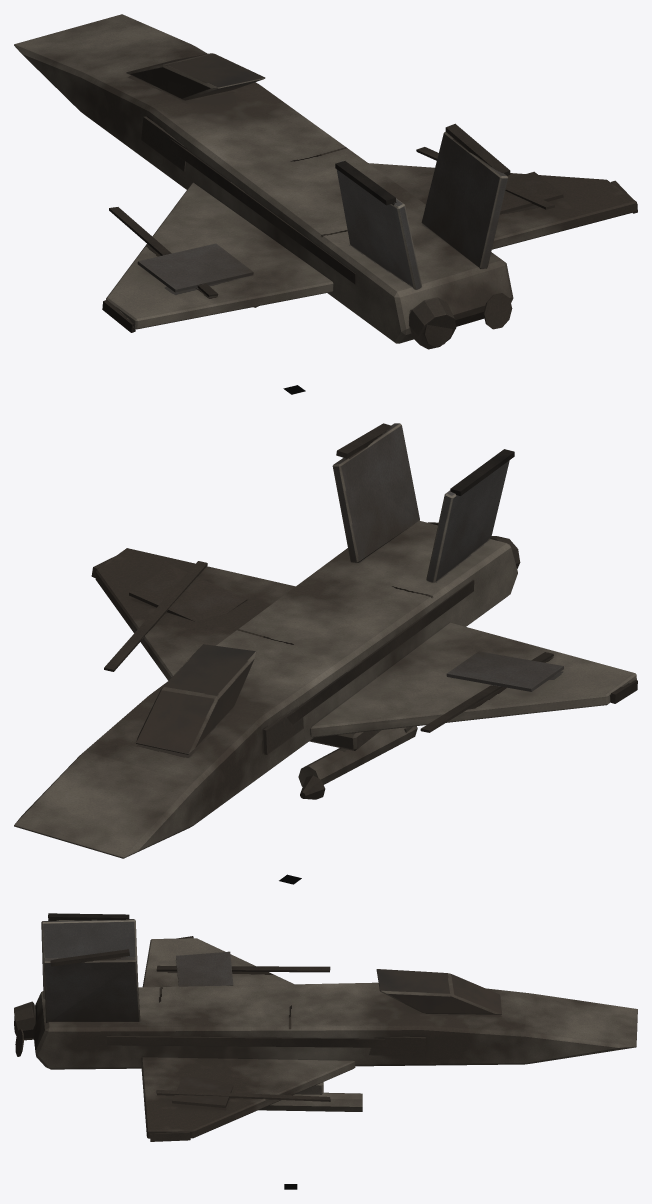
The model's file is ord_falcon_wreck.fbx.
3 views of the same model, one above another, from view 1: azimuth 30°, elevation 25°; view 2: azimuth 150°, elevation 25°; view 3: azimuth 270°, elevation 25° (orthographic). The views are drawn at different scales.
Parts seen in each view (by area): view 1: base_bar; view 2: base_bar, pylon_bar; view 3: base_bar, pylon_bar.
Boxes of the visible parts, x1=… form: base_bar: x1=14, y1=14, x2=637, y2=349; base_bar: x1=14, y1=423, x2=637, y2=858; pylon_bar: x1=298, y1=726, x2=417, y2=799; base_bar: x1=14, y1=913, x2=637, y2=1141; pylon_bar: x1=258, y1=1082, x2=362, y2=1111.
Size of the model in its own units: 699 by 428 by 943.
2 materials, 2 textured.
